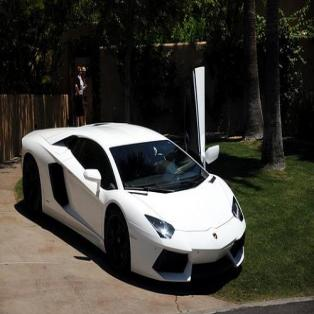Auto: (20, 68, 248, 290)
